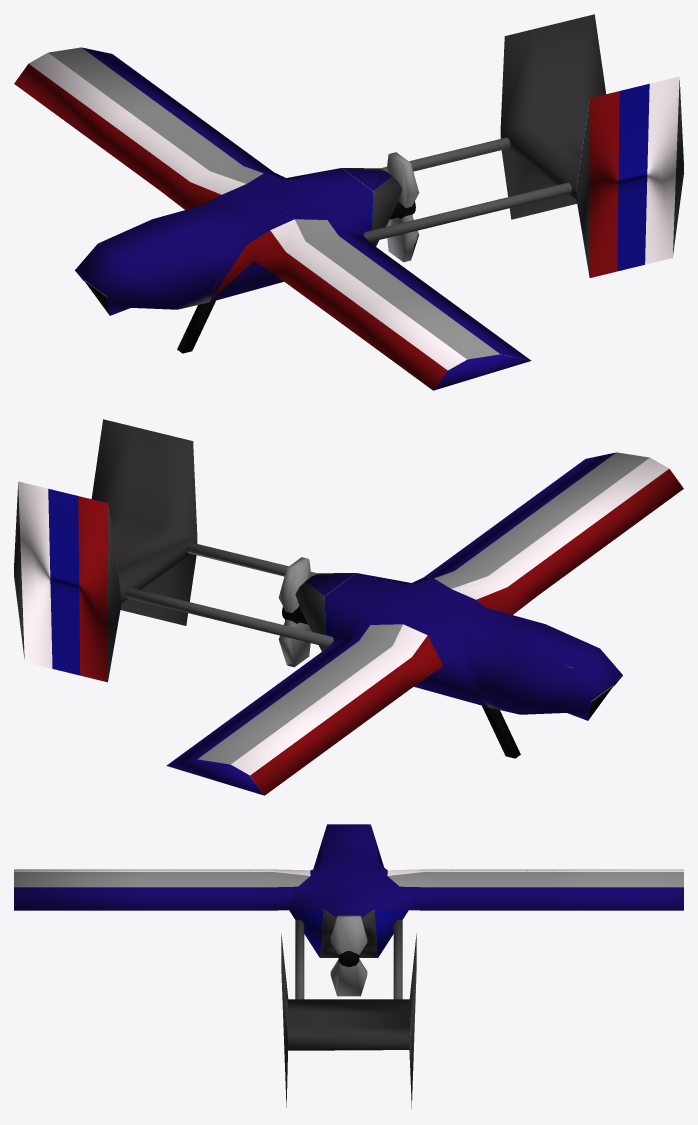
File: drone.fbx
3 views of the same model, one above another, from view 1: azimuth 30°, elevation 25°; view 2: azimuth 150°, elevation 25°; view 3: azimuth 270°, elevation 25° (orthographic). The views are drawn at different scales.
Visible parts, largest first — view 1: Icosphere, Cylinder; view 2: Icosphere, Cylinder; view 3: Icosphere, Cylinder.
Part boxes in pixels (box(x1,y1,x2,y2)): Icosphere: box(14, 14, 683, 390); Cylinder: box(386, 152, 419, 262); Icosphere: box(14, 419, 683, 795); Cylinder: box(278, 557, 311, 667); Icosphere: box(14, 824, 683, 1109); Cylinder: box(330, 915, 367, 996).
Bounding box in the file's own units: 925 × 307 × 1200.
